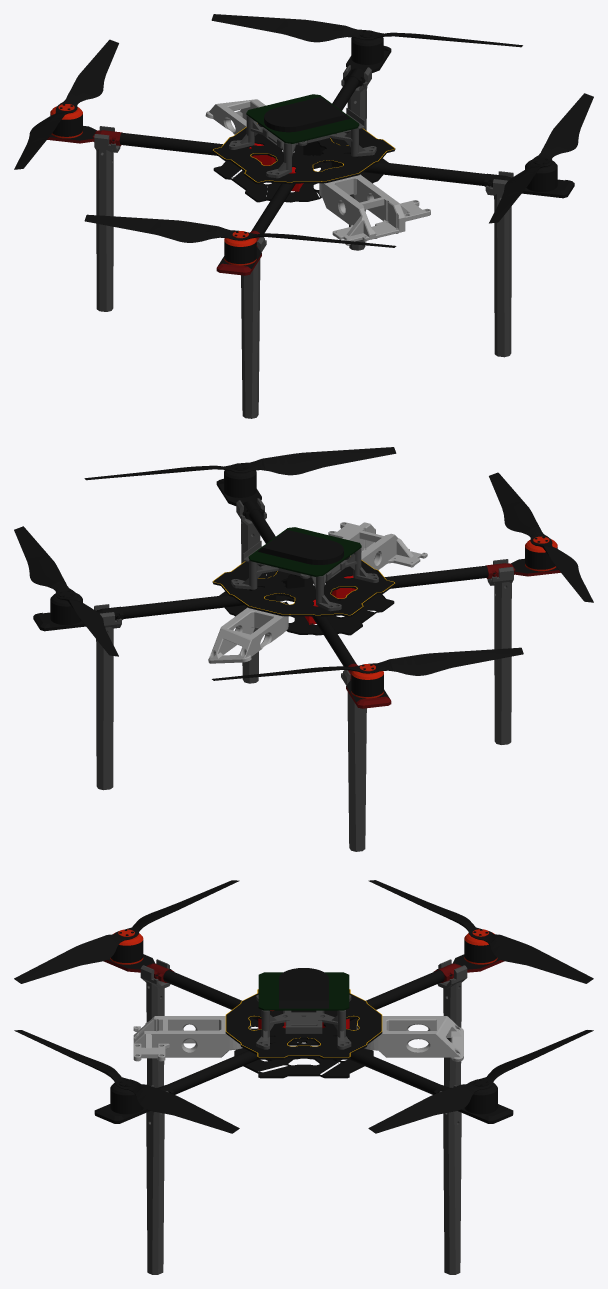
File: tarotParaquedas.obj
3 views of the same model, one above another, from view 1: azimuth 30°, elevation 25°; view 2: azimuth 150°, elevation 25°; view 3: azimuth 270°, elevation 25° (orthographic).
Parts seen in each view (by area): view 1: Shape001, BluefoxHolder, Tarot650_Leg_T650_Leg_1, Tarot650_Leg_T650_Leg003_1, Object028_1, Object030_1, Tarot650_Leg_T650_Leg002_1, Object027_1, Object029_1, Line015, Circle001, Plane001 (+13 smaller); view 2: Shape001, Tarot650_Leg_T650_Leg002_1, Tarot650_Leg_T650_Leg004_1, Object027_1, Object029_1, Tarot650_Leg_T650_Leg_1, Body19, Object030_1, Object028_1, BluefoxHolder, Line015, Circle001 (+13 smaller); view 3: Shape001, BluefoxHolder, Body19, Tarot650_Leg_T650_Leg004_1, Tarot650_Leg_T650_Leg003_1, Object030_1, Object027_1, Object029_1, Object028_1, Line015, Circle001, Plane001 (+15 smaller).
Part boxes in pixels (left/top/right/bottom): Shape001: left=212, top=123, right=395, bottom=184; BluefoxHolder: left=319, top=174, right=430, bottom=245; Tarot650_Leg_T650_Leg_1: left=94, top=126, right=120, bottom=311; Tarot650_Leg_T650_Leg003_1: left=485, top=171, right=513, bottom=357; Object028_1: left=211, top=14, right=522, bottom=47; Object030_1: left=84, top=214, right=396, bottom=247; Tarot650_Leg_T650_Leg002_1: left=241, top=237, right=266, bottom=418; Object027_1: left=14, top=39, right=118, bottom=169; Object029_1: left=489, top=93, right=593, bottom=223; Line015: left=213, top=138, right=388, bottom=202; Circle001: left=264, top=97, right=350, bottom=132; Plane001: left=246, top=94, right=359, bottom=143; Shape001: left=212, top=556, right=395, bottom=617; Tarot650_Leg_T650_Leg002_1: left=487, top=559, right=513, bottom=744; Tarot650_Leg_T650_Leg004_1: left=94, top=604, right=121, bottom=790; Object027_1: left=212, top=647, right=523, bottom=680; Object029_1: left=84, top=447, right=396, bottom=480; Tarot650_Leg_T650_Leg_1: left=341, top=670, right=366, bottom=851; Body19: left=208, top=607, right=288, bottom=663; Object030_1: left=489, top=472, right=593, bottom=602; Object028_1: left=14, top=526, right=118, bottom=656; BluefoxHolder: left=328, top=522, right=427, bottom=569; Line015: left=219, top=571, right=394, bottom=635; Circle001: left=258, top=529, right=343, bottom=564; Shape001: left=225, top=989, right=382, bottom=1059; BluefoxHolder: left=133, top=1016, right=251, bottom=1061; Body19: left=356, top=1016, right=463, bottom=1061; Tarot650_Leg_T650_Leg004_1: left=439, top=1085, right=461, bottom=1274; Tarot650_Leg_T650_Leg003_1: left=146, top=1085, right=168, bottom=1274; Object030_1: left=14, top=880, right=239, bottom=983; Object027_1: left=368, top=880, right=593, bottom=983; Object029_1: left=14, top=1030, right=239, bottom=1133; Object028_1: left=368, top=1030, right=593, bottom=1133; Line015: left=234, top=1018, right=373, bottom=1078; Circle001: left=279, top=968, right=328, bottom=1008; Plane001: left=258, top=972, right=349, bottom=1010.
Size of the model in its own units: 719 by 294 by 695.
